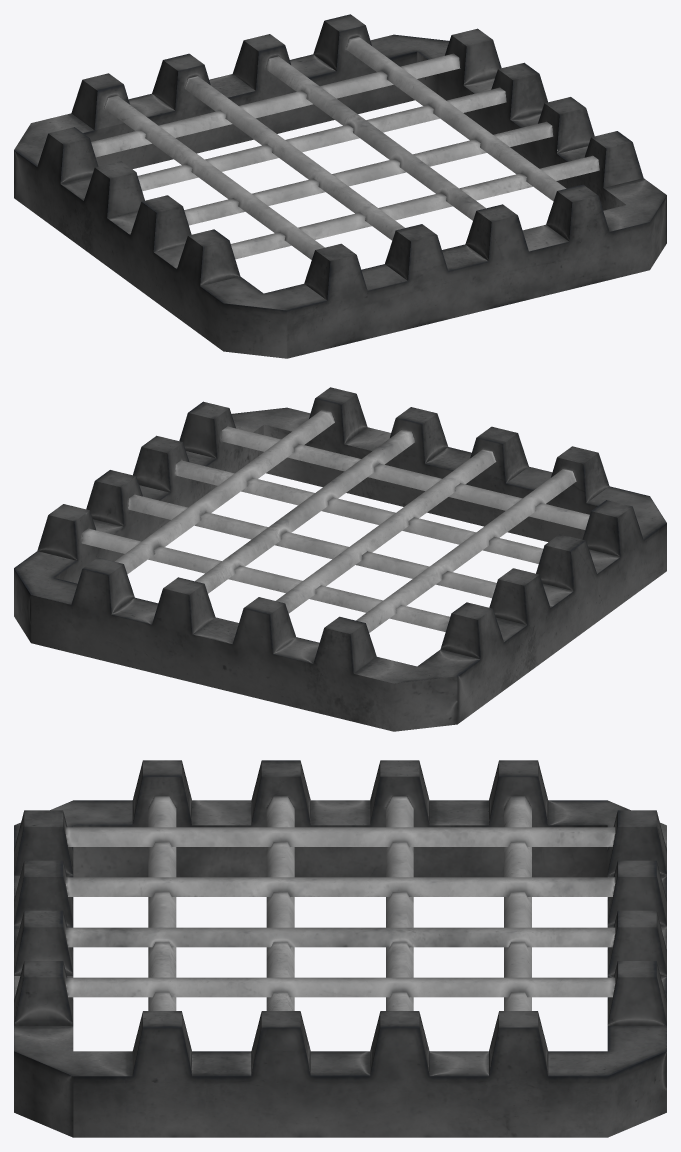
Rendered from Ventilation.fbx.
The picture shows the model from 3 angles, top to bottom: view 1: azimuth 30°, elevation 25°; view 2: azimuth 150°, elevation 25°; view 3: azimuth 270°, elevation 25°; orthographic projection. The views are drawn at different scales.
Visible parts, largest first — view 1: Ventiation; view 2: Ventiation; view 3: Ventiation.
Boxes of the visible parts, box(x1,y1,x2,y2) form: Ventiation: box(14, 14, 666, 358); Ventiation: box(14, 387, 666, 731); Ventiation: box(14, 760, 666, 1137).
Bounding box in the file's own units: 242 × 43.35 × 242.
